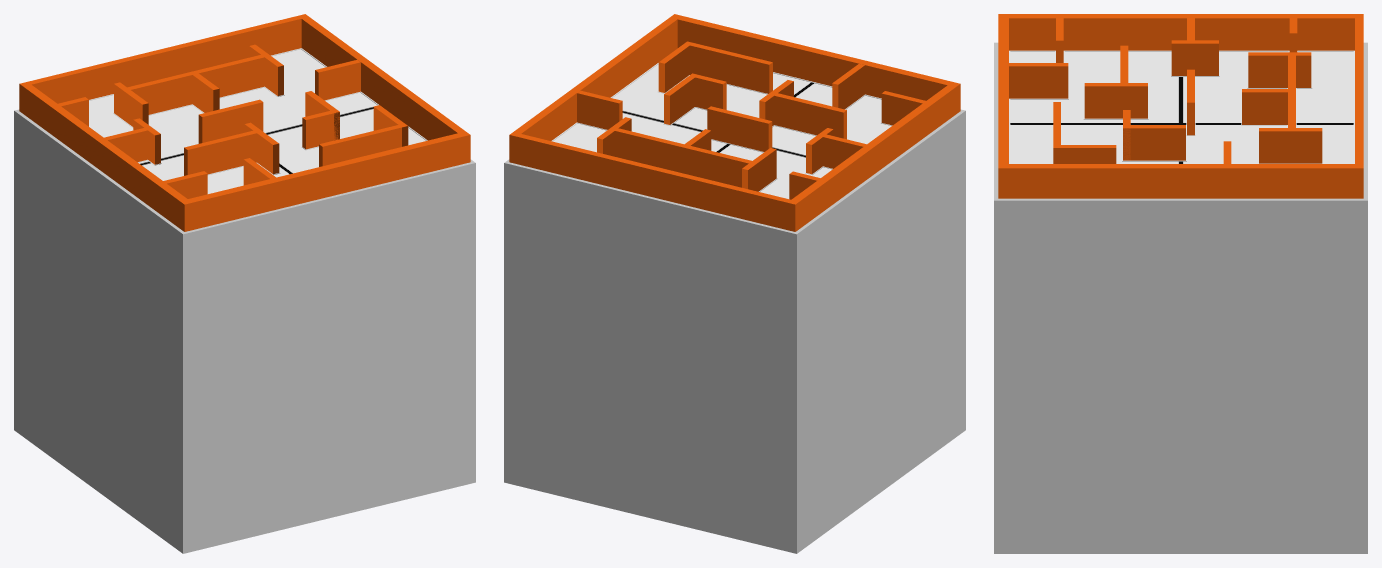
The model's file is Level_1.fbx.
3 renders of one model, left to right at view 1: azimuth 30°, elevation 25°; view 2: azimuth 150°, elevation 25°; view 3: azimuth 270°, elevation 25°, orthographic. The views are drawn at different scales.
Parts seen in each view (by area): view 1: Maze_Combained; view 2: Maze_Combained; view 3: Maze_Combained.
Boxes of the visible parts, left/top/right/bottom form: Maze_Combained: left=14, top=14, right=475, bottom=553; Maze_Combained: left=504, top=14, right=965, bottom=553; Maze_Combained: left=994, top=14, right=1367, bottom=553.
Size of the model in its own units: 351 by 397 by 351.
